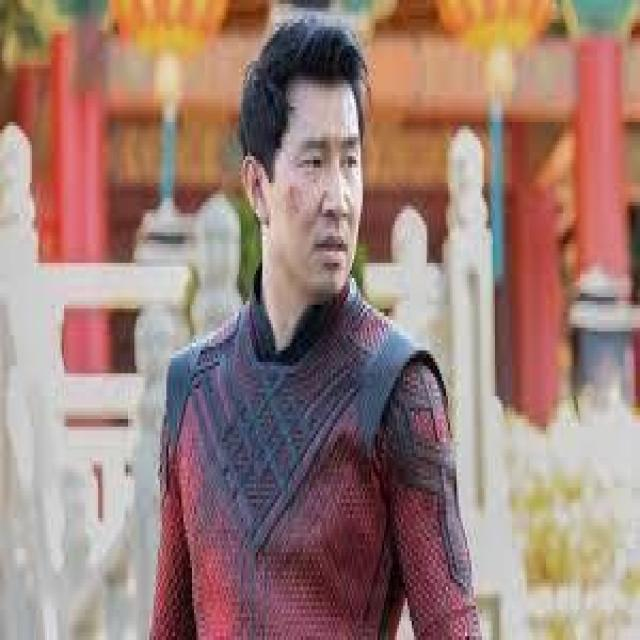person: (123, 15, 506, 629)
